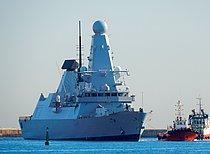MIL_Ship: (17, 20, 151, 140)
